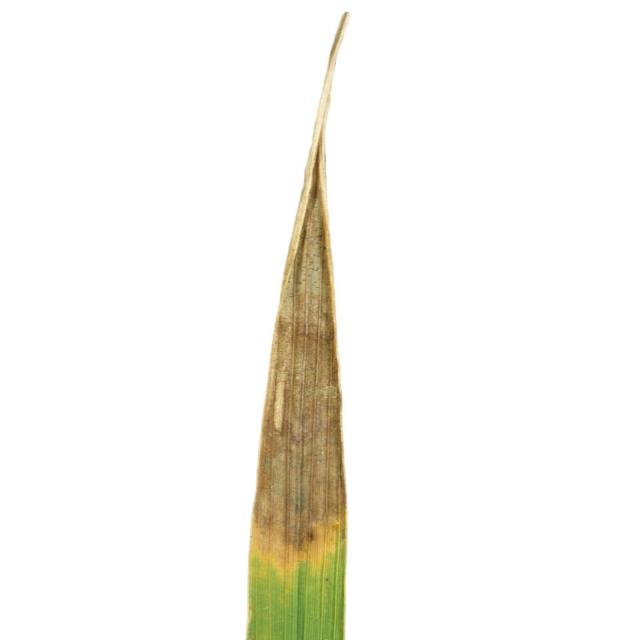Leaf scald: (218, 0, 520, 640)
